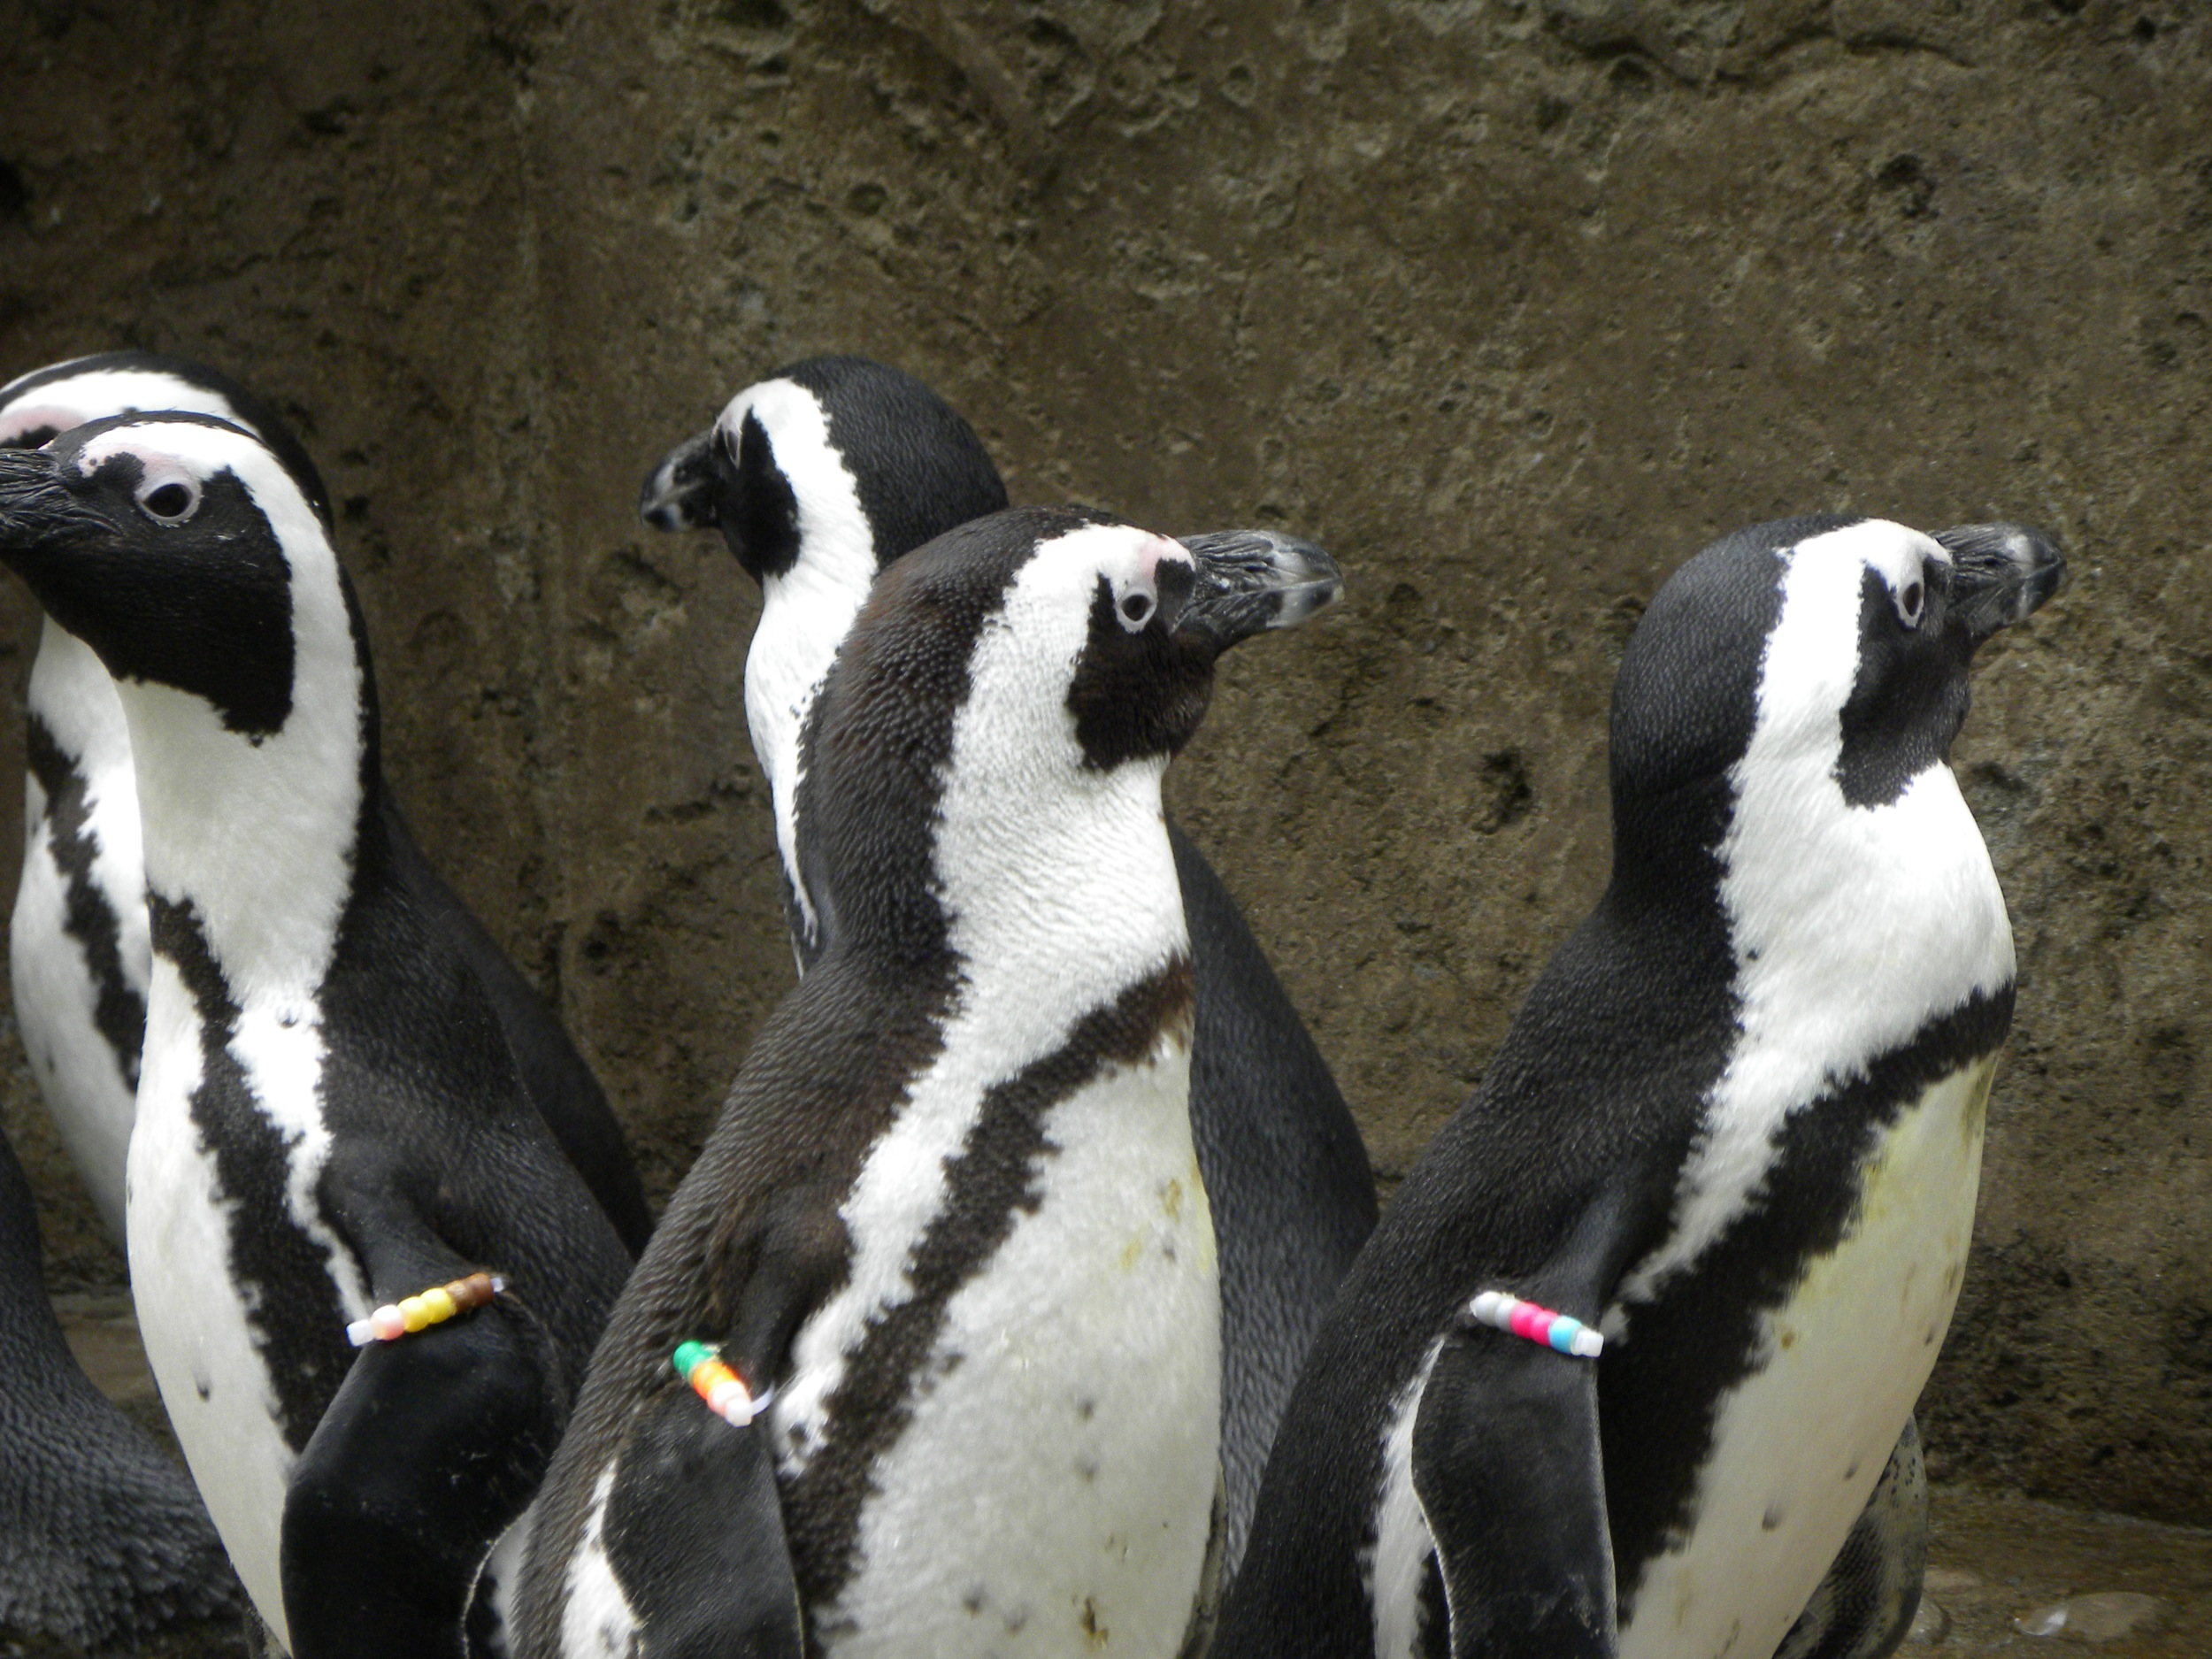penguin: (1266, 519, 2111, 1659), (606, 486, 1345, 1659)
